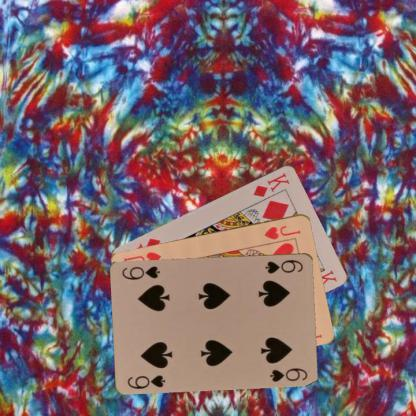6s: (262, 257, 304, 275), (125, 372, 166, 390)
Jh: (262, 222, 302, 241)
Kd: (251, 170, 291, 198)
